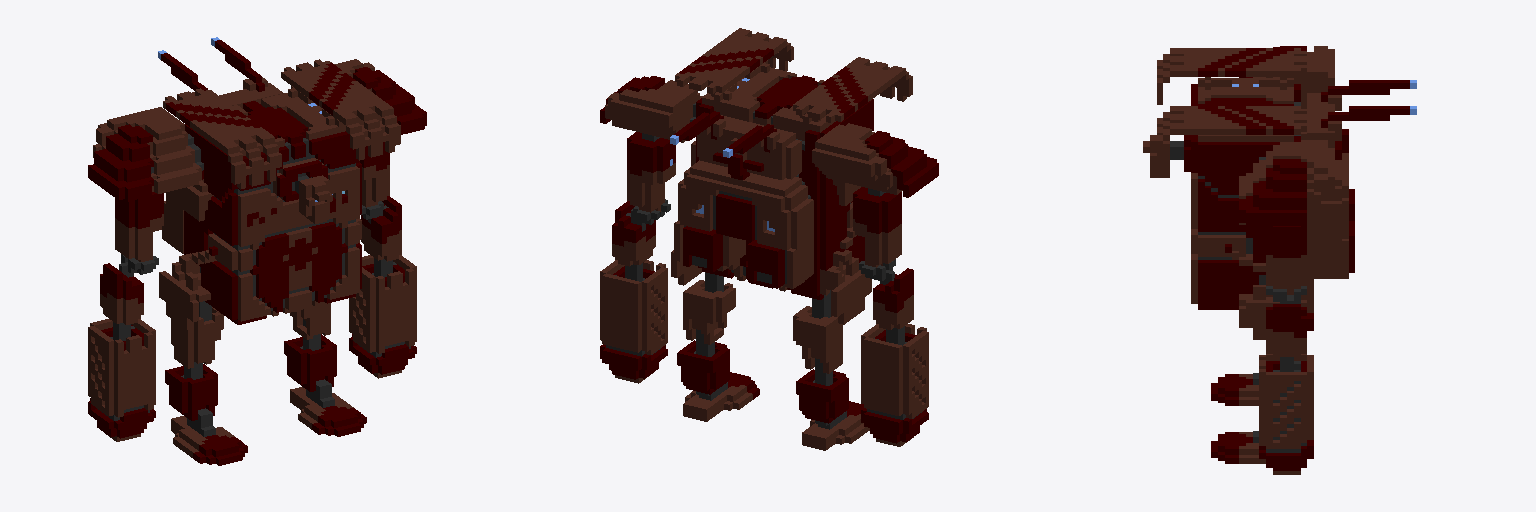
3 renders of one model, left to right at view 1: azimuth 30°, elevation 25°; view 2: azimuth 150°, elevation 25°; view 3: azimuth 270°, elevation 25°, orthographic.
Visible parts, largest first — view 1: object 1; view 2: object 1; view 3: object 1.
Part boxes in pixels (bbox=[...]): object 1: bbox=[88, 37, 426, 465]; object 1: bbox=[600, 28, 938, 450]; object 1: bbox=[1143, 46, 1416, 474].
Size of the model in its own units: 5.2 by 5.4 by 4.
Materials: 1 (1 with a texture image).